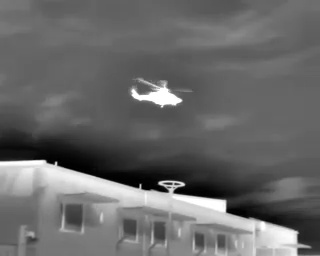HELICOPTER: (127, 72, 197, 115)
